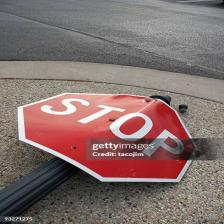Stop-sign: (15, 88, 205, 187)
